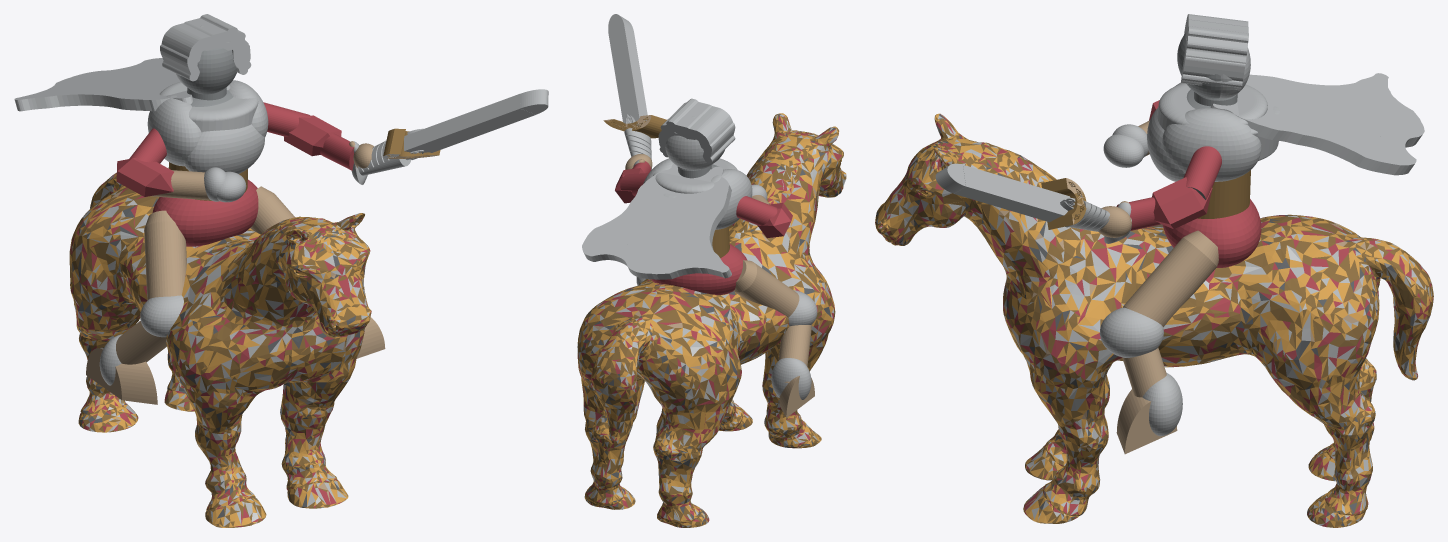
Rendered from player_general_1.glb.
The picture shows the model from 3 angles, left to right: view 1: azimuth 30°, elevation 25°; view 2: azimuth 150°, elevation 25°; view 3: azimuth 270°, elevation 25°; orthographic projection. The views are drawn at different scales.
Parts seen in each view (by area): view 1: Mesh_Mesh_head_geo.001_lambert2SG.001; view 2: Mesh_Mesh_head_geo.001_lambert2SG.001; view 3: Mesh_Mesh_head_geo.001_lambert2SG.001.
Part boxes in pixels (x1,y1,x2,y2): Mesh_Mesh_head_geo.001_lambert2SG.001: (14, 14, 548, 527); Mesh_Mesh_head_geo.001_lambert2SG.001: (577, 14, 846, 527); Mesh_Mesh_head_geo.001_lambert2SG.001: (875, 14, 1433, 527).
Bounding box in the file's own units: 90.49 × 109 × 117.
